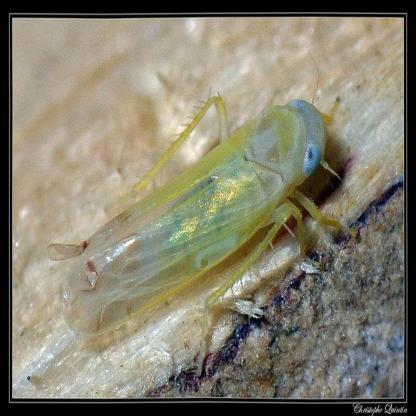green-leafhopper: (64, 93, 333, 338)
